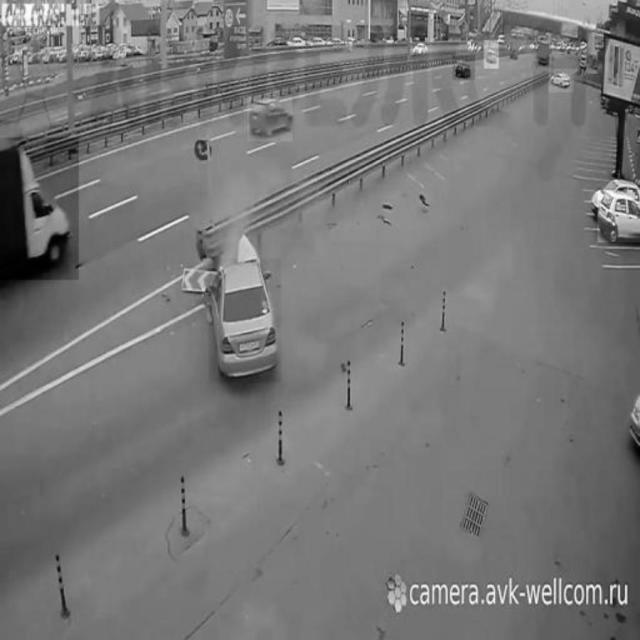vehicle: (0, 138, 78, 280), (210, 259, 282, 383), (598, 190, 640, 242), (248, 97, 293, 142), (549, 69, 574, 93), (453, 55, 475, 80), (537, 34, 553, 68), (484, 40, 499, 68), (411, 43, 431, 55)
